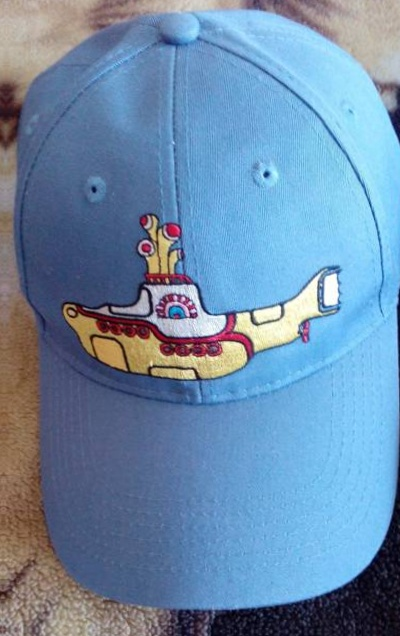Hat: (6, 15, 400, 610), (0, 13, 2, 607)
